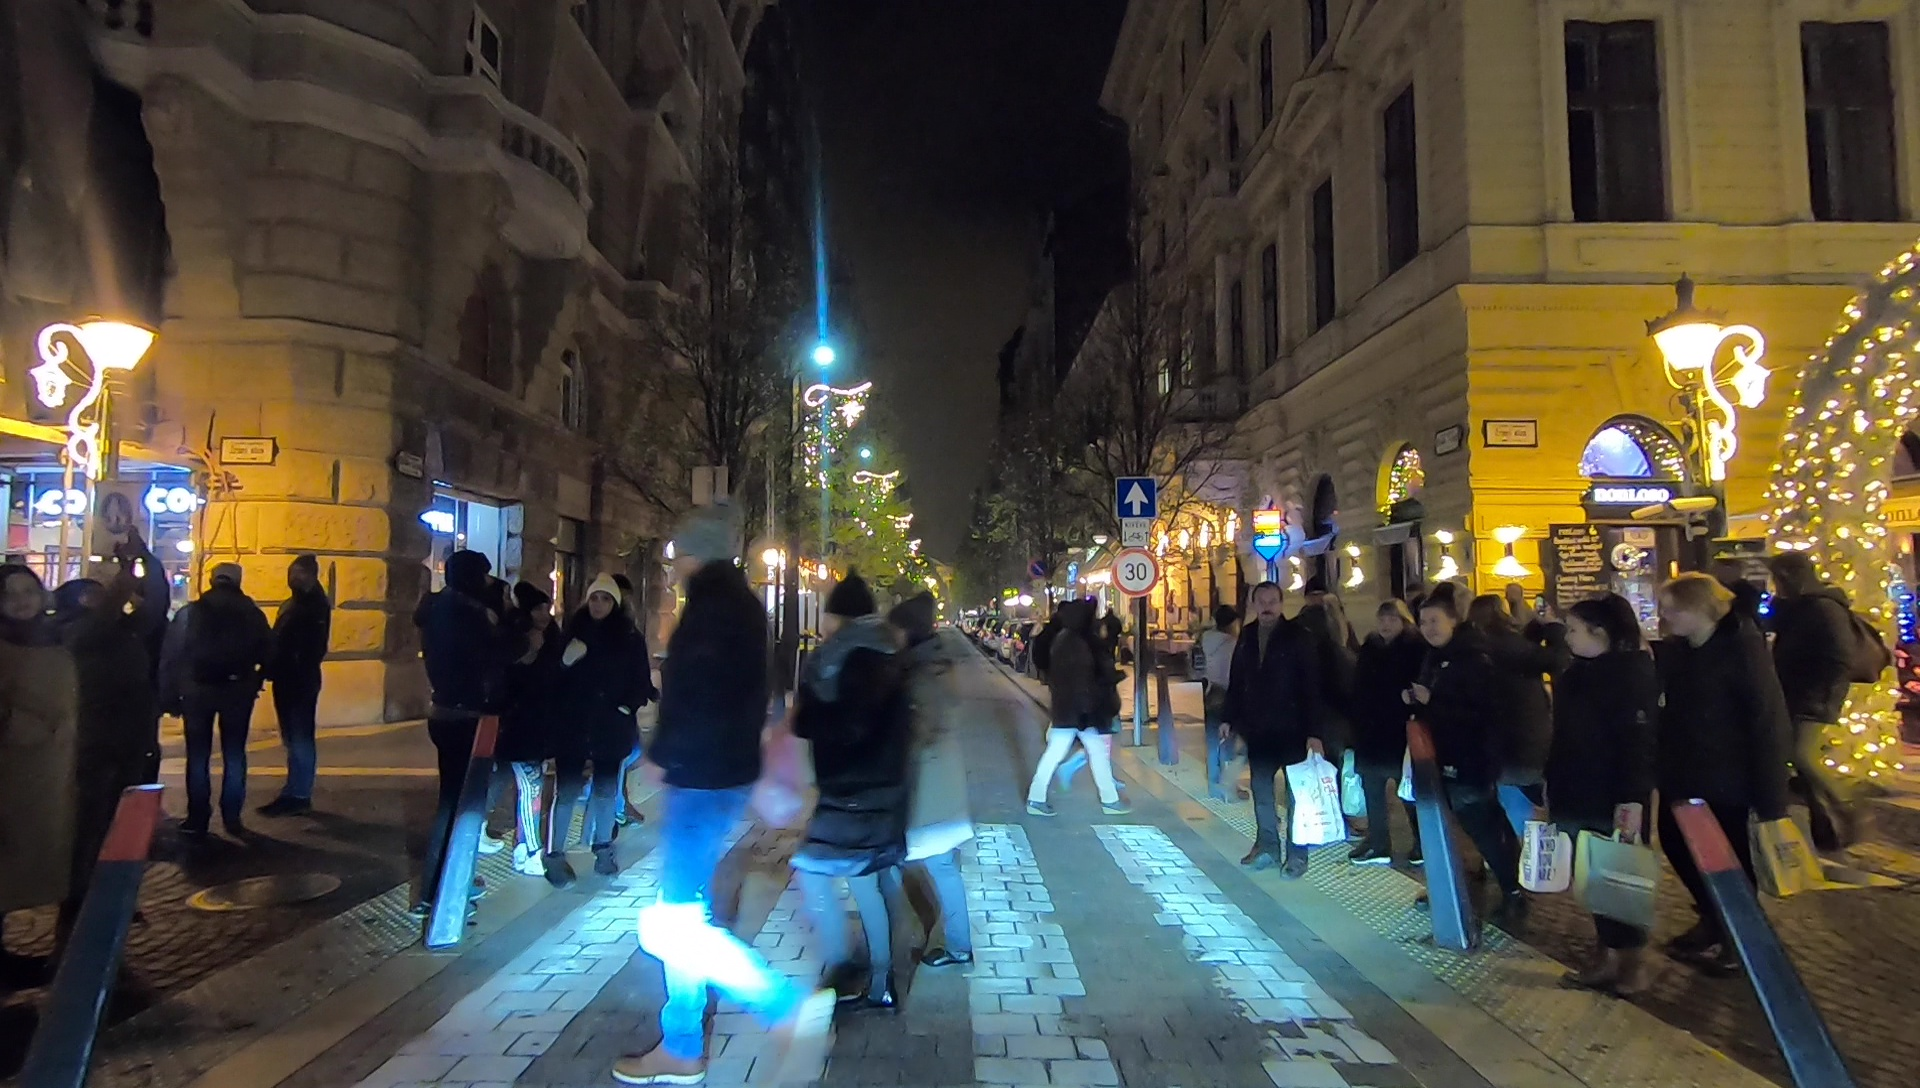person: (625, 513, 831, 1088), (1545, 597, 1671, 993), (801, 584, 901, 1011), (1665, 578, 1780, 949), (1417, 595, 1521, 958), (878, 586, 973, 971), (1767, 560, 1878, 856), (71, 536, 164, 863), (1, 554, 75, 910), (425, 558, 497, 917), (1236, 591, 1323, 882), (171, 560, 265, 828), (1280, 573, 1369, 850), (1039, 599, 1128, 824), (1362, 597, 1432, 871), (564, 558, 623, 880), (510, 574, 558, 878), (276, 556, 328, 815)
